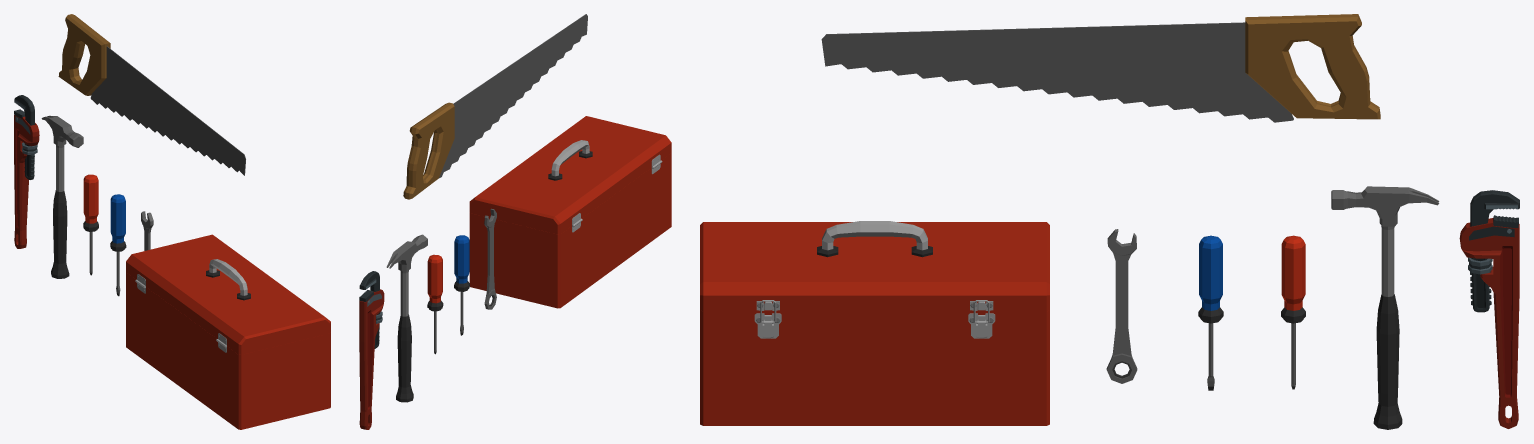
Rendered from Low_Poly_Tools.fbx.
3 views of the same model, side by side, from view 1: azimuth 30°, elevation 25°; view 2: azimuth 150°, elevation 25°; view 3: azimuth 270°, elevation 25° (orthographic). The views are drawn at different scales.
Visible parts, largest first — view 1: Tool_box, Wood_Saw, Pipe_Wrench, Hammer, Screwdriver_B, Screwdriver_A, Wrench; view 2: Tool_box, Wood_Saw, Pipe_Wrench, Hammer, Screwdriver_B, Screwdriver_A, Wrench; view 3: Tool_box, Wood_Saw, Pipe_Wrench, Hammer, Wrench, Screwdriver_B, Screwdriver_A.
Part boxes in pixels (<box>): Tool_box: <box>126,234,330,429</box>; Wood_Saw: <box>58,14,245,175</box>; Pipe_Wrench: <box>14,95,39,248</box>; Hammer: <box>41,115,83,278</box>; Screwdriver_B: <box>110,194,126,296</box>; Screwdriver_A: <box>83,174,98,275</box>; Wrench: <box>141,211,153,250</box>; Tool_box: <box>469,116,671,308</box>; Wood_Saw: <box>403,14,587,199</box>; Pipe_Wrench: <box>359,271,384,429</box>; Hammer: <box>386,234,427,402</box>; Screwdriver_B: <box>454,235,469,335</box>; Screwdriver_A: <box>427,254,443,354</box>; Wrench: <box>484,208,496,309</box>; Tool_box: <box>700,221,1049,425</box>; Wood_Saw: <box>821,14,1380,122</box>; Pipe_Wrench: <box>1459,190,1519,428</box>; Hammer: <box>1331,186,1439,429</box>; Wrench: <box>1106,229,1137,383</box>; Screwdriver_B: <box>1198,235,1223,390</box>; Screwdriver_A: <box>1281,235,1305,389</box>.
Bounding box in the file's own units: 210 × 559 × 1008.
